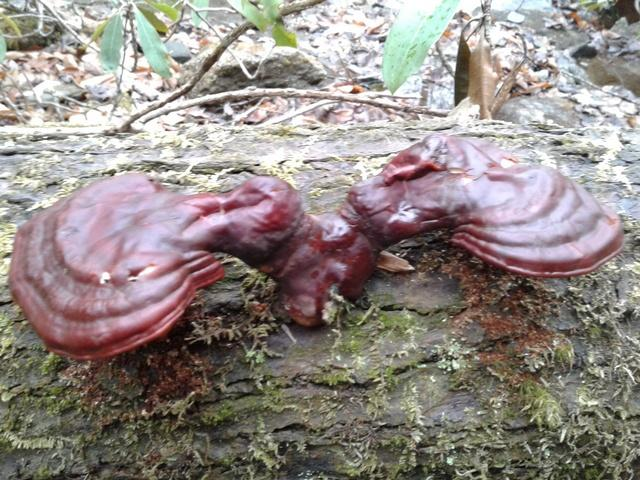poisonous_mushroom: (6, 123, 620, 391)
